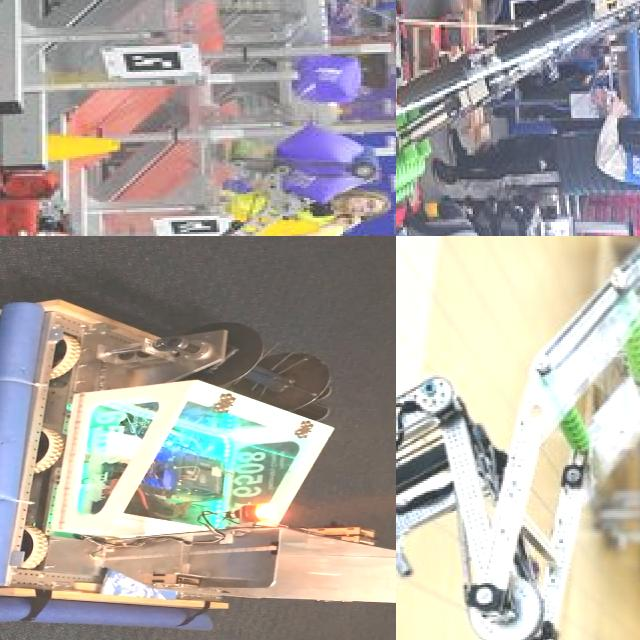FRC-Robots: (0, 259, 396, 615), (396, 236, 640, 640), (396, 0, 640, 236), (0, 122, 387, 236)
